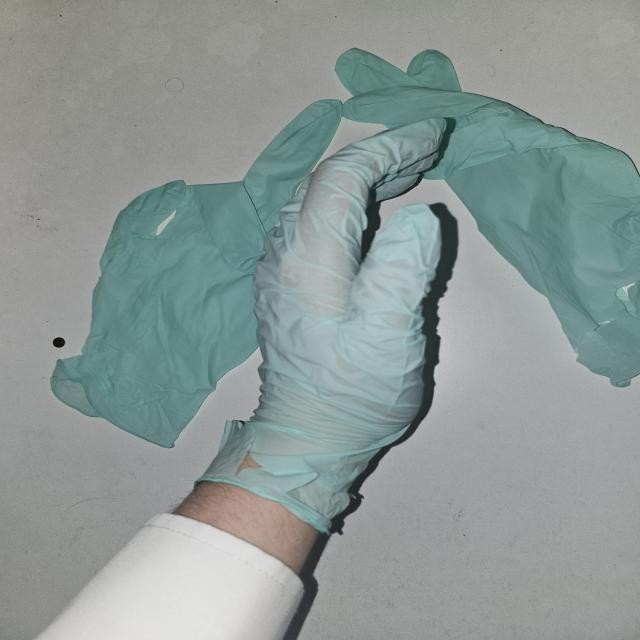gloves_damaged: (194, 115, 449, 535)
